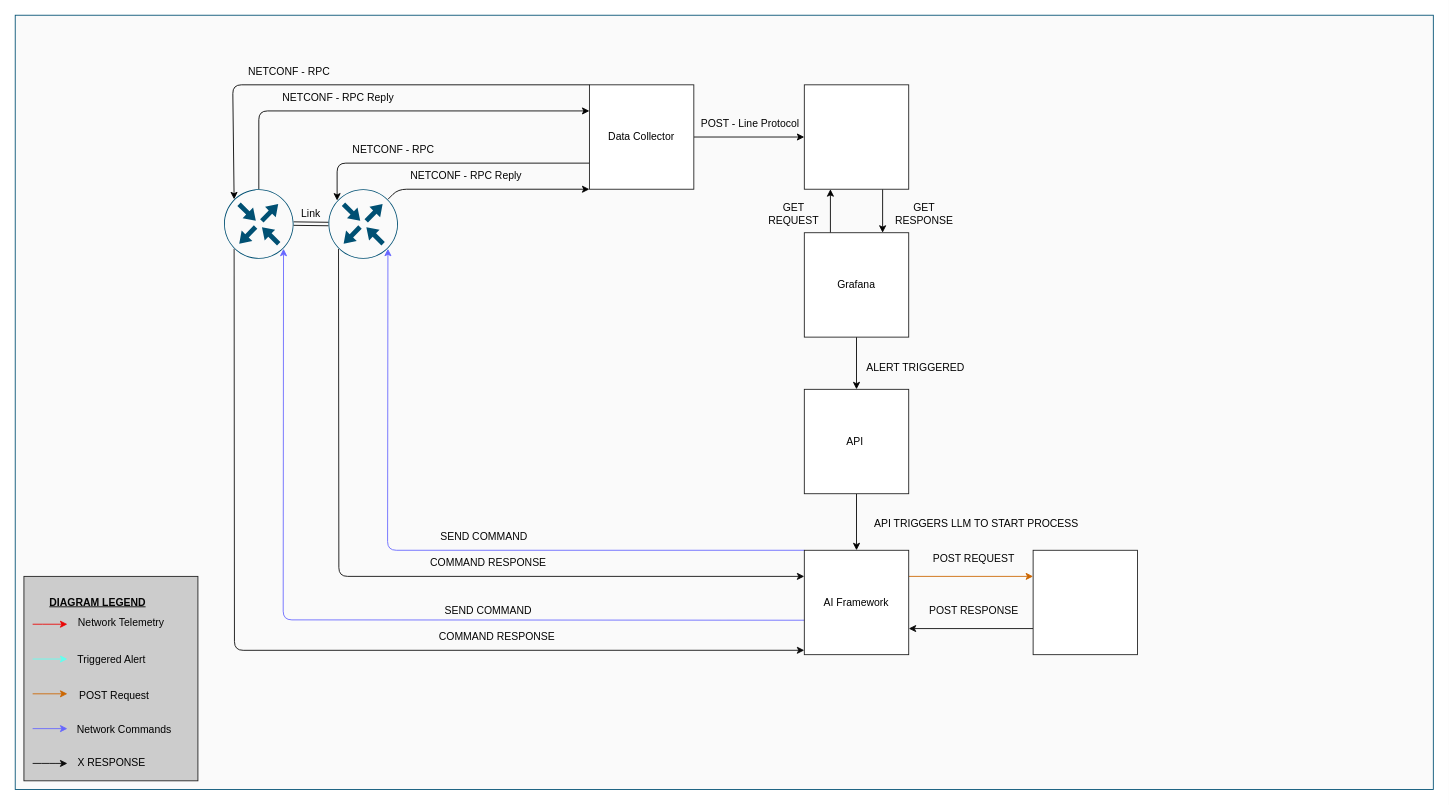
Some shapes in this 1449 by 805 pixel diagram are drawn without their labels. The shapes that lost their labels are listed below. From the top down, each one's centre as x and y in pixels, then its label:
point 856,136: InfluxDB
point 1085,602: LLM
